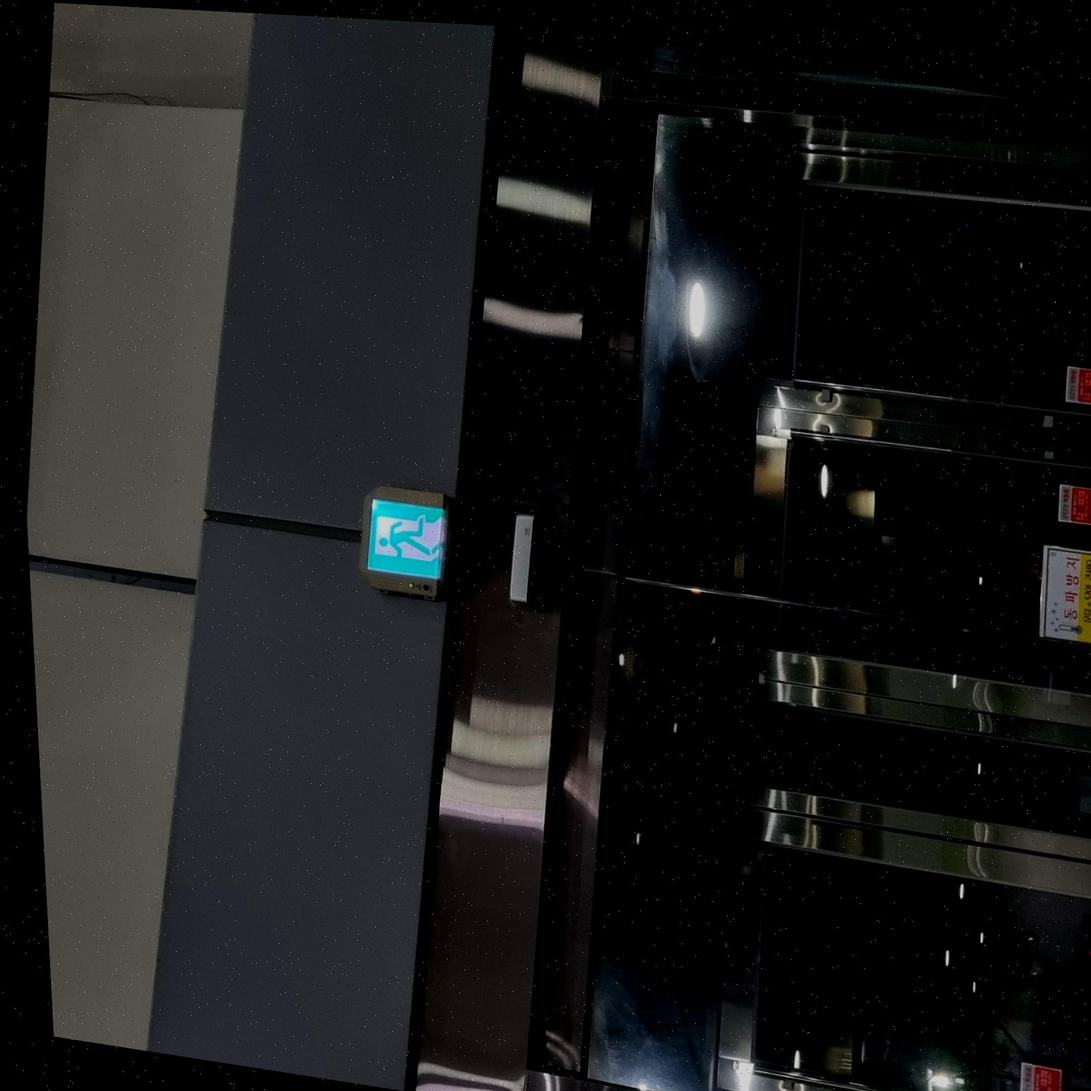emergency_exit: (359, 485, 450, 599), (1038, 543, 1089, 644), (1056, 481, 1089, 526), (1018, 1059, 1064, 1090), (1063, 364, 1089, 406)
